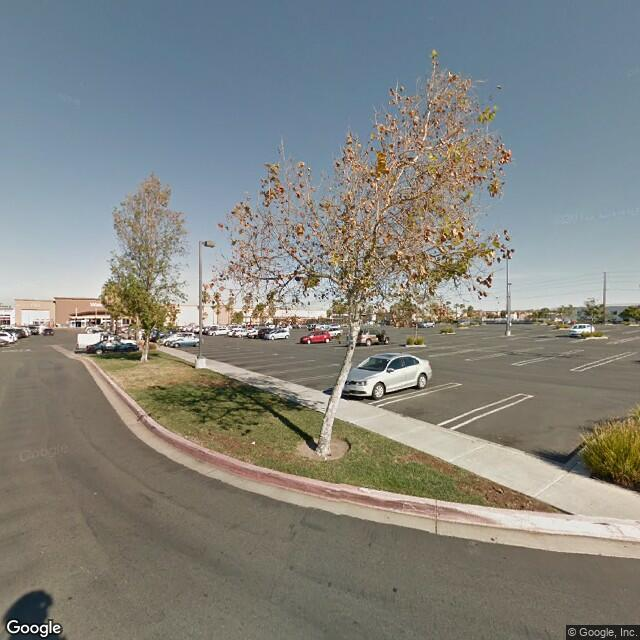litter: (250, 438, 260, 448)
